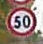limite 50: (5, 6, 36, 35)
